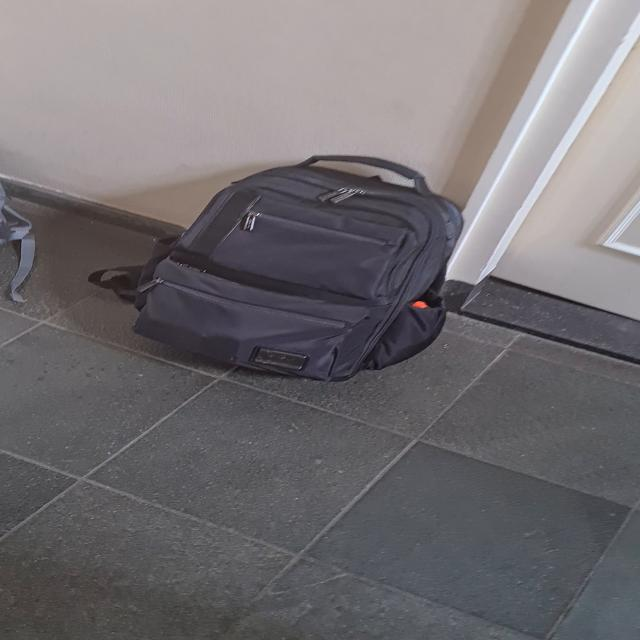backpack: (122, 148, 474, 390)
